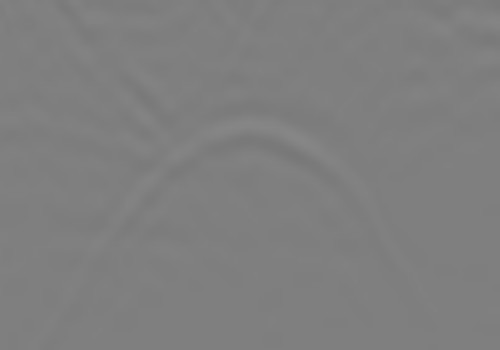hyperbola: (79, 101, 418, 294)
